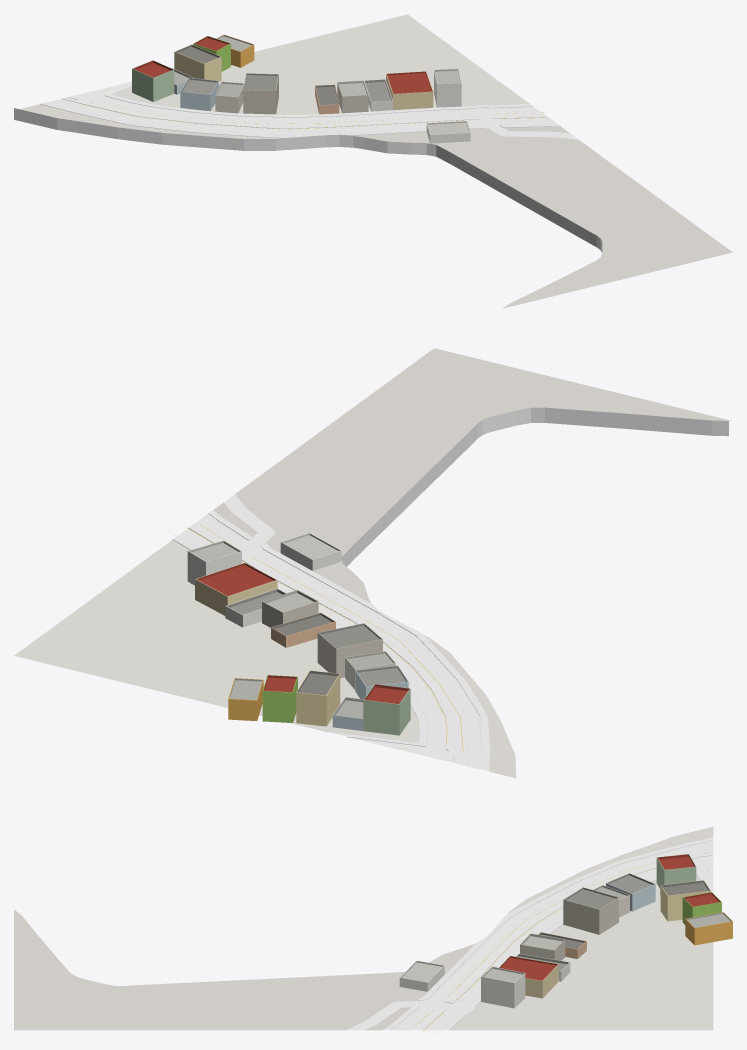
The picture shows the model from 3 angles, top to bottom: view 1: azimuth 30°, elevation 25°; view 2: azimuth 150°, elevation 25°; view 3: azimuth 270°, elevation 25°; orthographic projection. The views are drawn at different scales.
Visible parts, largest first — view 1: ground, walls, asphalt, coast, roofs, sidewalk, markings; view 2: ground, walls, roofs, asphalt, sidewalk, coast, markings; view 3: ground, walls, asphalt, roofs, sidewalk, markings.
Part boxes in pixels (box(x1,y1,x2,y2)): ground: box(19, 14, 732, 308); walls: box(132, 43, 470, 143); asphalt: box(47, 81, 578, 139); coast: box(14, 108, 602, 252); roofs: box(132, 34, 470, 134); sidewalk: box(40, 84, 561, 138); markings: box(60, 89, 553, 135); ground: box(14, 348, 731, 778); walls: box(187, 542, 410, 735); roofs: box(188, 533, 410, 718); asphalt: box(178, 494, 482, 769); sidewalk: box(172, 510, 490, 770); coast: box(341, 407, 728, 566); markings: box(168, 519, 481, 763); ground: box(14, 826, 713, 1030); walls: box(399, 857, 732, 1008); asphalt: box(346, 840, 713, 1030); roofs: box(400, 854, 732, 982); sidewalk: box(383, 837, 713, 1029); markings: box(399, 847, 709, 1035).
Size of what is drawn, in the model's own units: 178 by 15.19 by 257.
